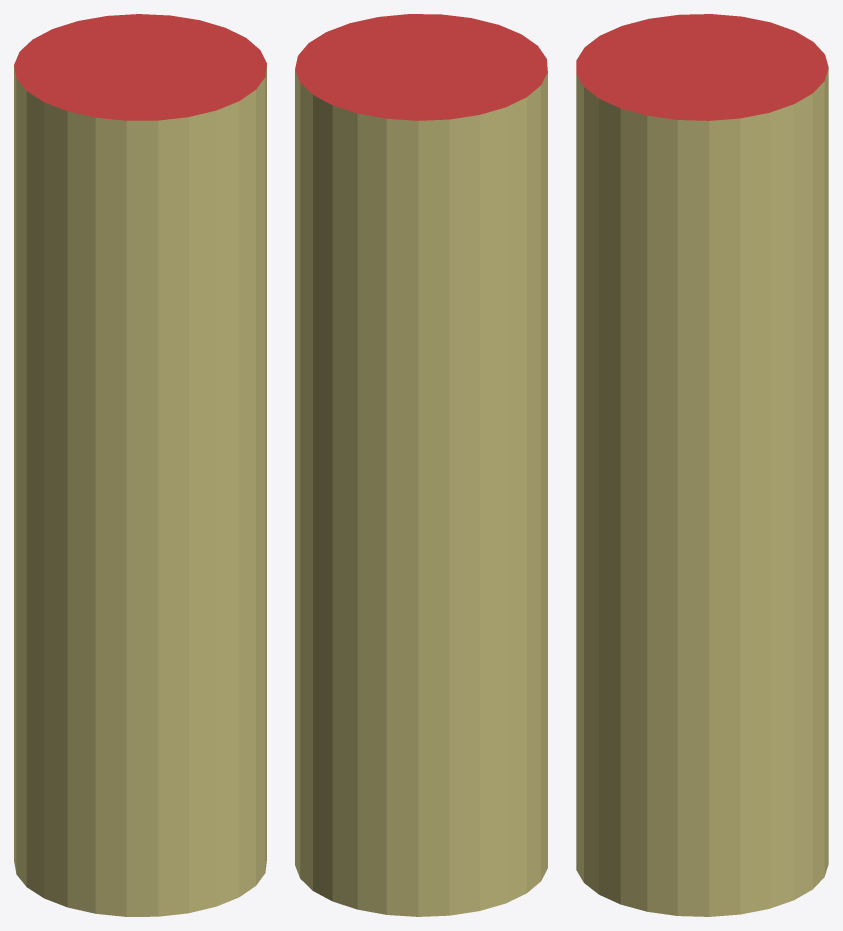
3 views of the same model, side by side, from view 1: azimuth 30°, elevation 25°; view 2: azimuth 150°, elevation 25°; view 3: azimuth 270°, elevation 25° (orthographic).
Size of the model in its own units: 2.87 by 2.86 by 9.96.
